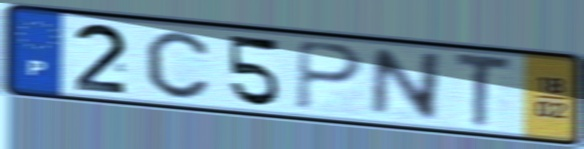2: (72, 21, 129, 96)
5: (226, 32, 283, 108)
C: (142, 29, 212, 101)
N: (367, 47, 446, 123)
P: (294, 38, 367, 113)
T: (452, 50, 515, 131)
